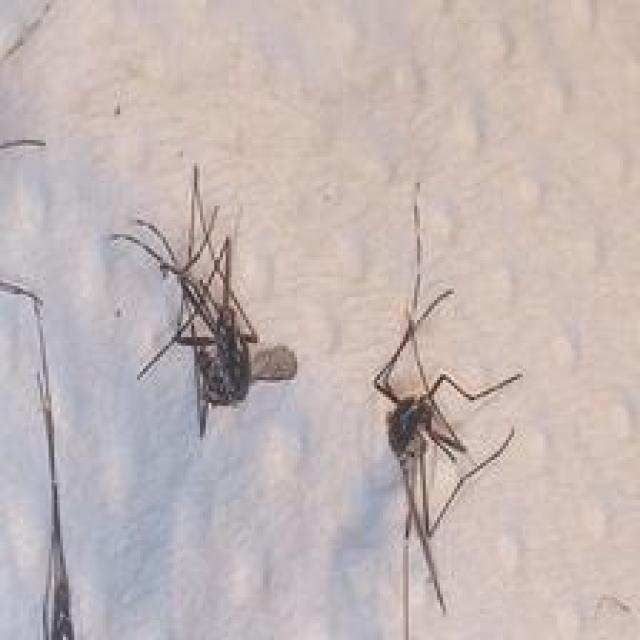Aedes albopictus: (110, 162, 299, 438)
